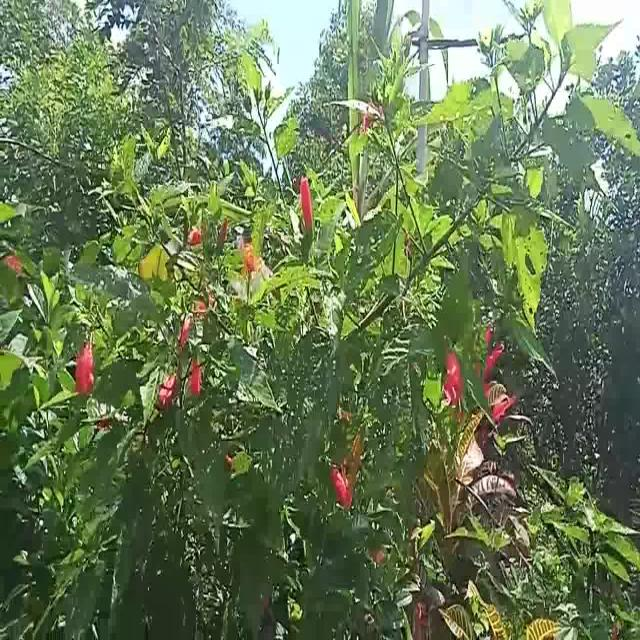Flower: (299, 174, 319, 247), (323, 463, 355, 508), (443, 350, 469, 404), (74, 340, 98, 394)
